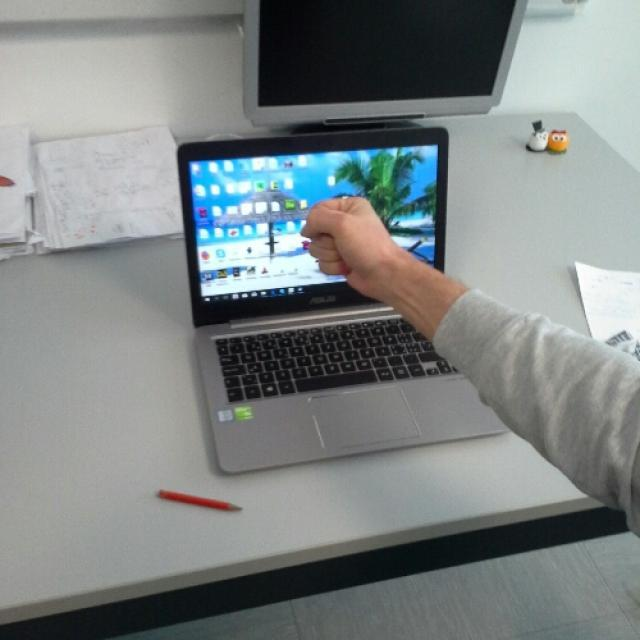rock: (302, 193, 392, 294)
